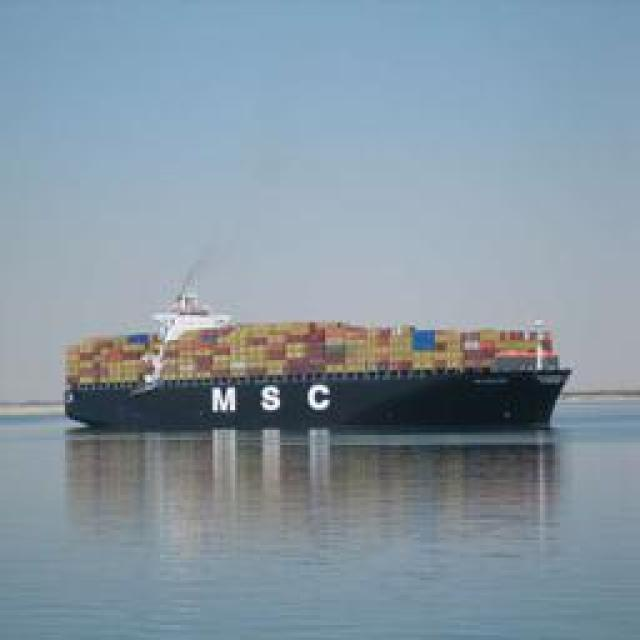ship2: (63, 263, 572, 437)
